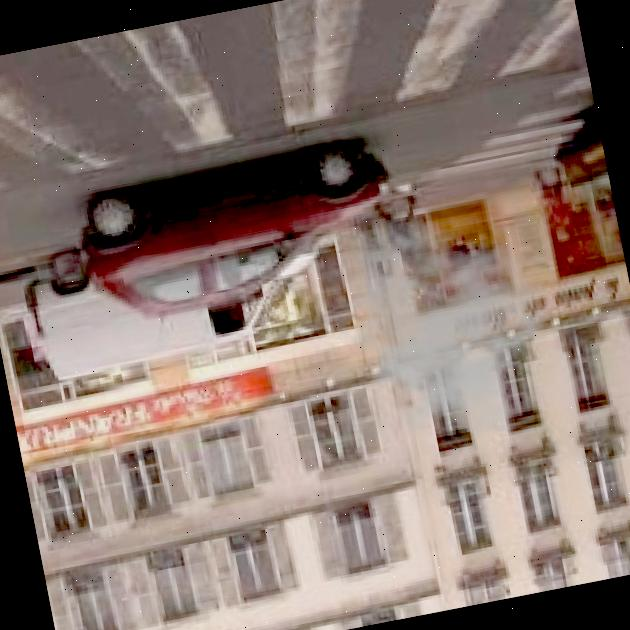smoke: (305, 192, 576, 463)
